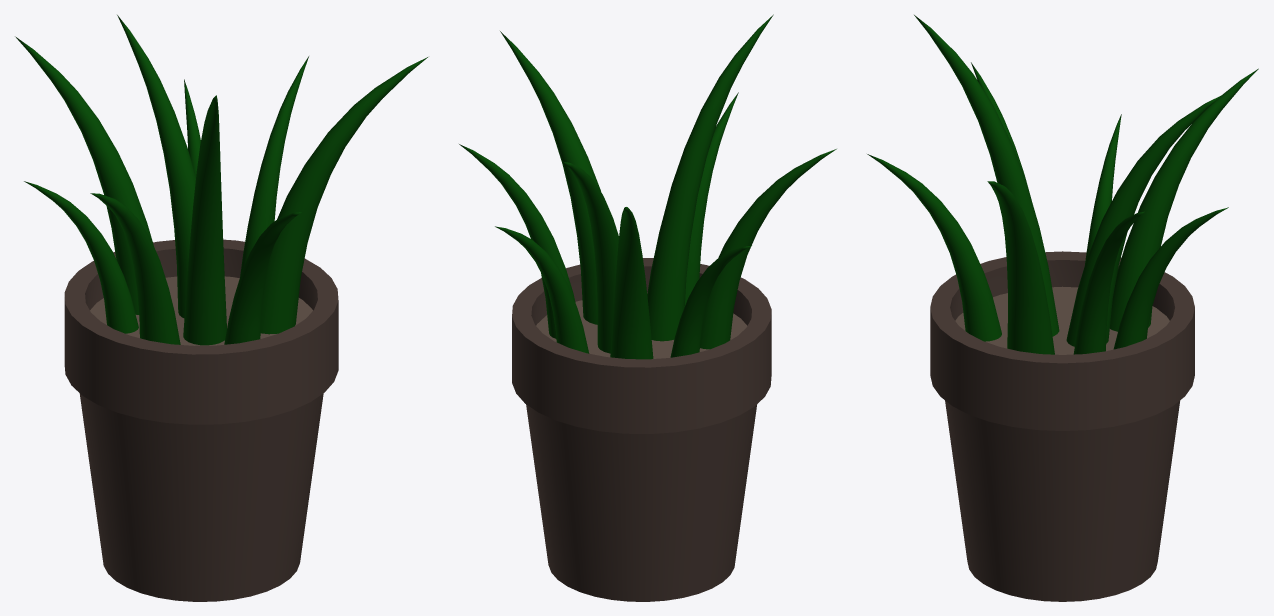
Rendered from Plante6_7.fbx.
3 views of the same model, side by side, from view 1: azimuth 30°, elevation 25°; view 2: azimuth 150°, elevation 25°; view 3: azimuth 270°, elevation 25° (orthographic). The views are drawn at different scales.
Visible parts, largest first — view 1: pCylinder717, pCone5, pCone7, pCone4, pCone9, pCone2, pCone3, pCone1, pCone8, pCylinder721, pCone6; view 2: pCylinder717, pCone7, pCone5, pCone2, pCone4, pCone9, pCone6, pCone8, pCone3, pCone1, pCylinder721; view 3: pCylinder717, pCone4, pCone5, pCone7, pCone1, pCone9, pCone8, pCone6, pCylinder721, pCone3.
Boxes of the visible parts, x1,y1,x2,y2 form: pCylinder717: (64,239,338,601); pCone5: (260,57,427,334); pCone7: (183,95,226,345); pCone4: (15,36,153,314); pCone9: (117,15,195,317); pCone2: (90,193,180,344); pCone3: (24,181,138,333); pCone1: (224,212,301,344); pCone8: (240,56,308,275); pCylinder721: (90,276,312,345); pCone6: (184,79,200,176); pCylinder717: (512,258,771,601); pCone7: (647,14,773,341); pCone5: (500,31,600,324); pCone2: (700,149,836,349); pCone4: (610,207,653,359); pCone9: (563,161,618,353); pCone6: (495,226,589,353); pCone8: (459,144,575,338); pCone3: (670,245,751,357); pCone1: (684,92,738,306); pCylinder721: (536,292,747,358); pCylinder717: (930,251,1194,601); pCone4: (1110,68,1258,331); pCone5: (987,181,1054,354); pCone7: (914,15,1059,336); pCone1: (867,154,1001,341); pCone9: (1066,94,1223,346); pCone8: (1073,211,1144,354); pCone6: (1113,207,1228,349); pCylinder721: (955,286,1169,354); pCone3: (1085,114,1121,264).
Size of the model in its own units: 16.41 by 24.2 by 16.64.
